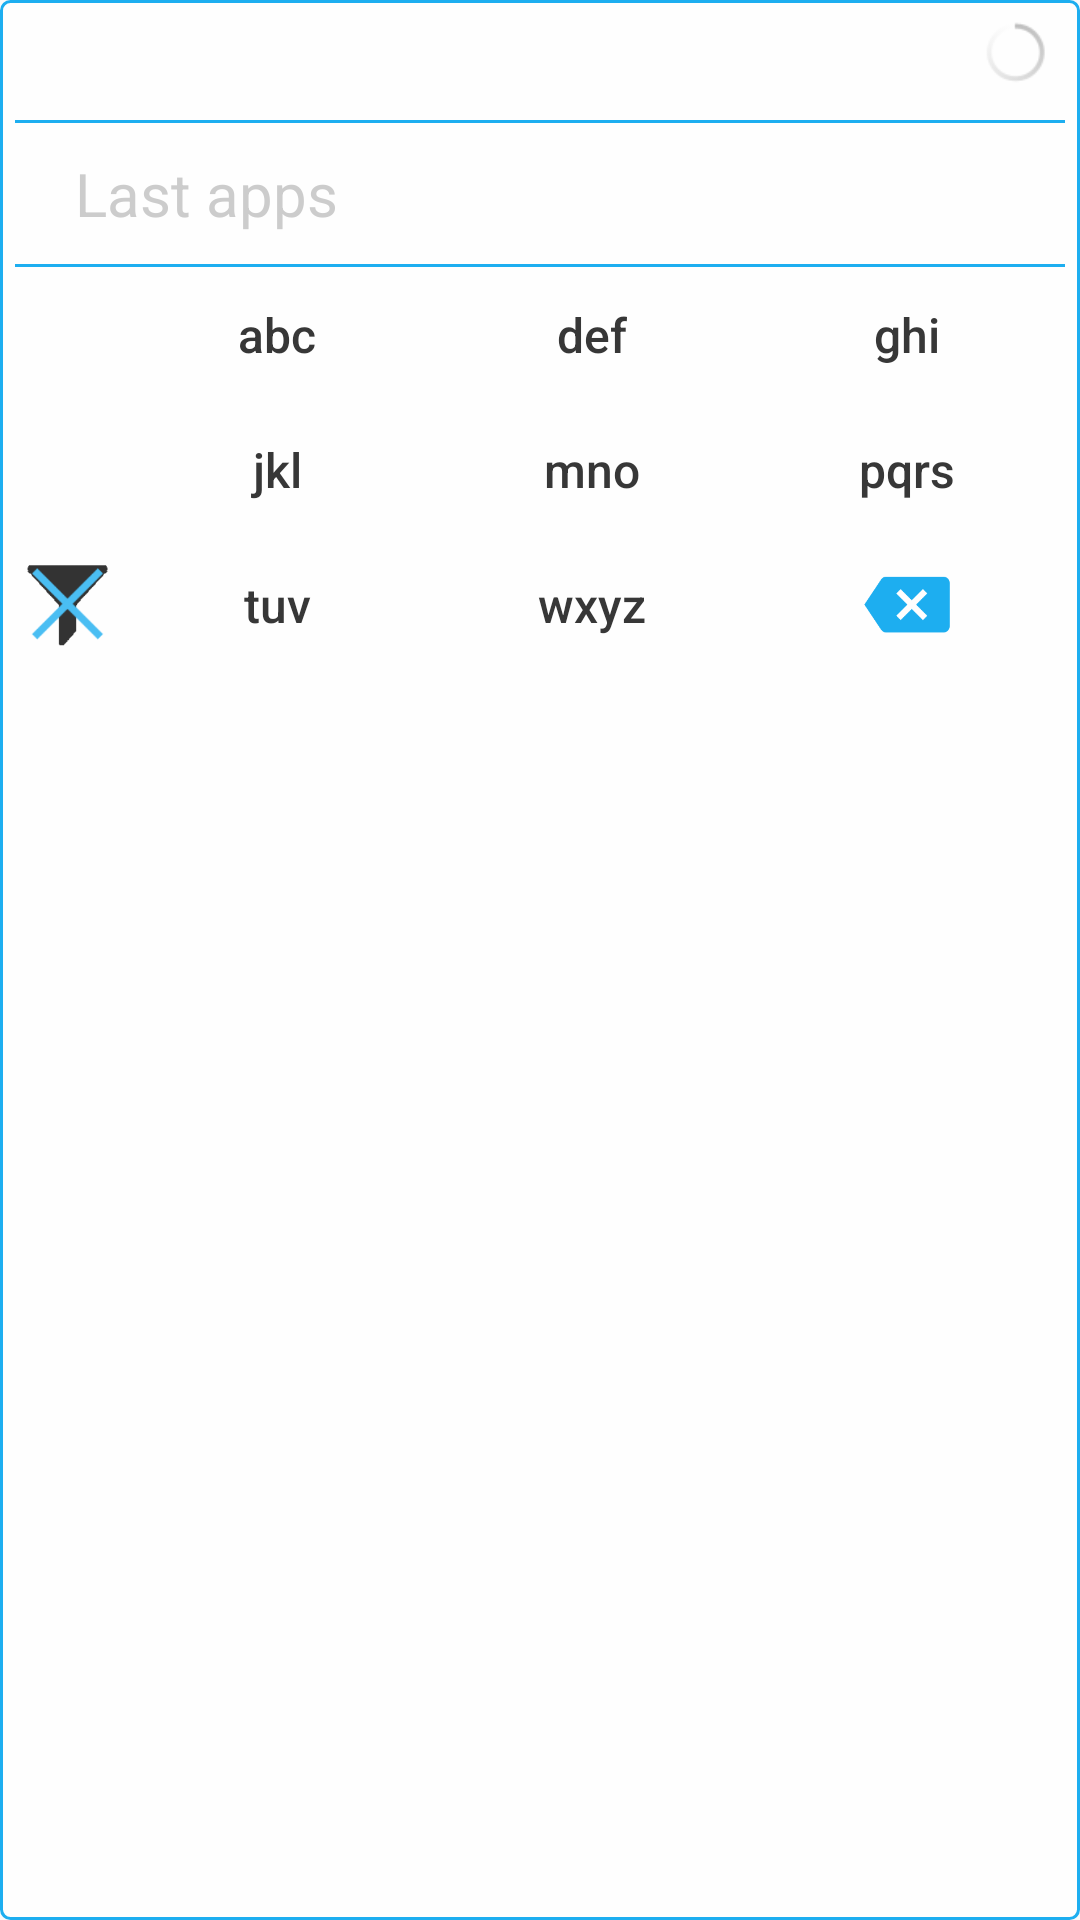

Where to tap for icons on this 1080w x 1920h app screen, as (x=x, y=y):
backspace arrow: (x=907, y=604)
filter all theme: (x=67, y=605)
